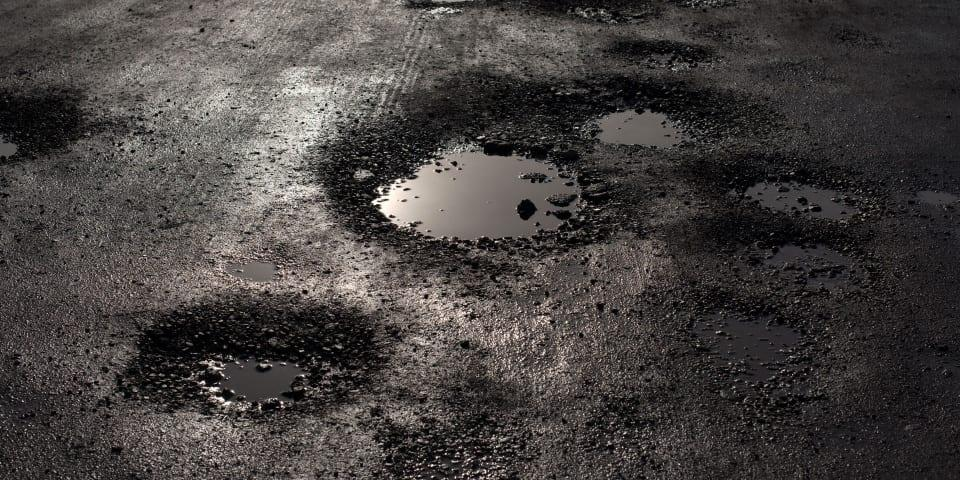Pothole: (276, 58, 745, 273), (83, 281, 428, 438), (705, 110, 870, 404), (581, 26, 745, 85), (0, 88, 111, 175)
